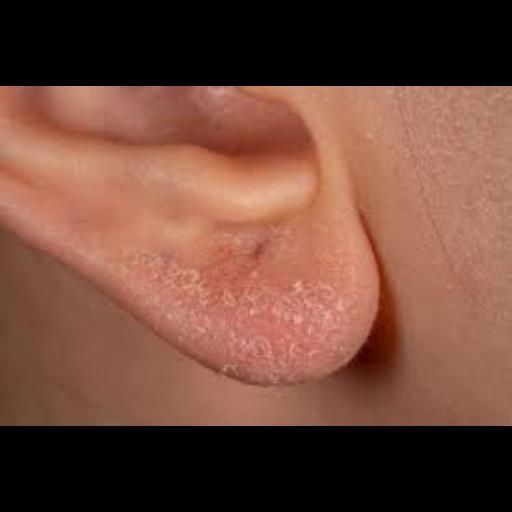Skin_Lesion: (336, 329, 382, 385), (280, 274, 318, 300), (186, 310, 214, 338), (180, 269, 206, 295), (250, 238, 274, 264), (233, 289, 261, 311), (278, 310, 312, 328), (238, 338, 268, 358), (292, 337, 312, 367), (218, 364, 242, 378), (324, 278, 334, 310), (146, 250, 164, 266), (163, 311, 175, 329)
